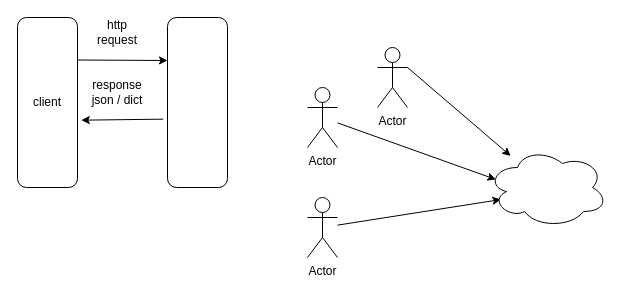
This 625x296 diagram has some shape labels left out. Each missing label, with the centre of its shape:
"servicio" belongs at point (547, 187).
"servidor" belongs at point (197, 102).
